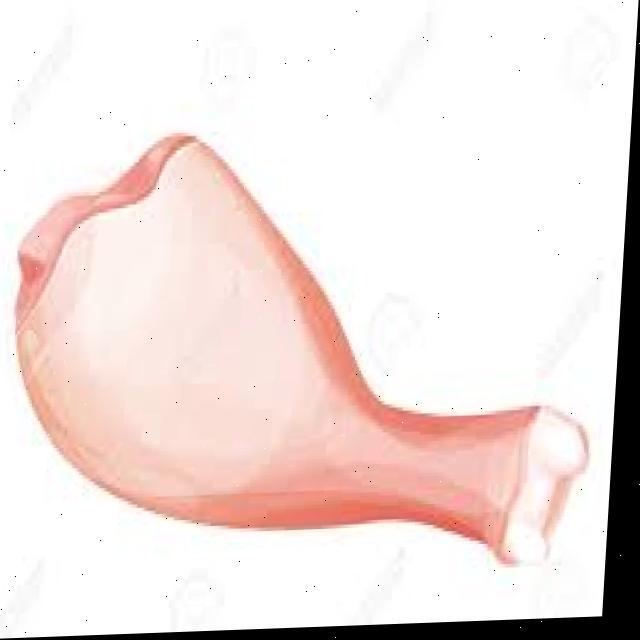leg: (0, 117, 593, 593)
